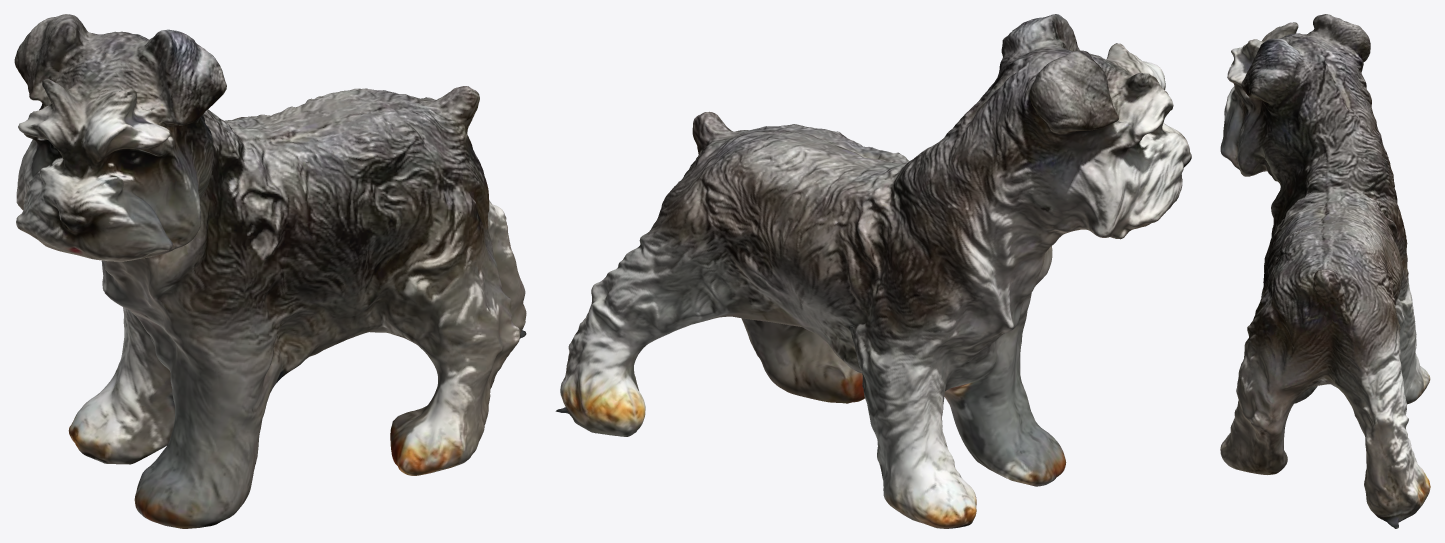
File: schnauzer.glb
3 views of the same model, side by side, from view 1: azimuth 30°, elevation 25°; view 2: azimuth 150°, elevation 25°; view 3: azimuth 270°, elevation 25° (orthographic). The views are drawn at different scales.
Visible parts, largest first — view 1: RETOPO_02; view 2: RETOPO_02; view 3: RETOPO_02.
Boxes of the visible parts, x1,y1,x2,y2 form: RETOPO_02: (14,14,526,528); RETOPO_02: (555,14,1191,528); RETOPO_02: (1220,14,1430,528).
Size of the model in its own units: 1 by 0.8271 by 0.4421.
1 material, 1 textured.
